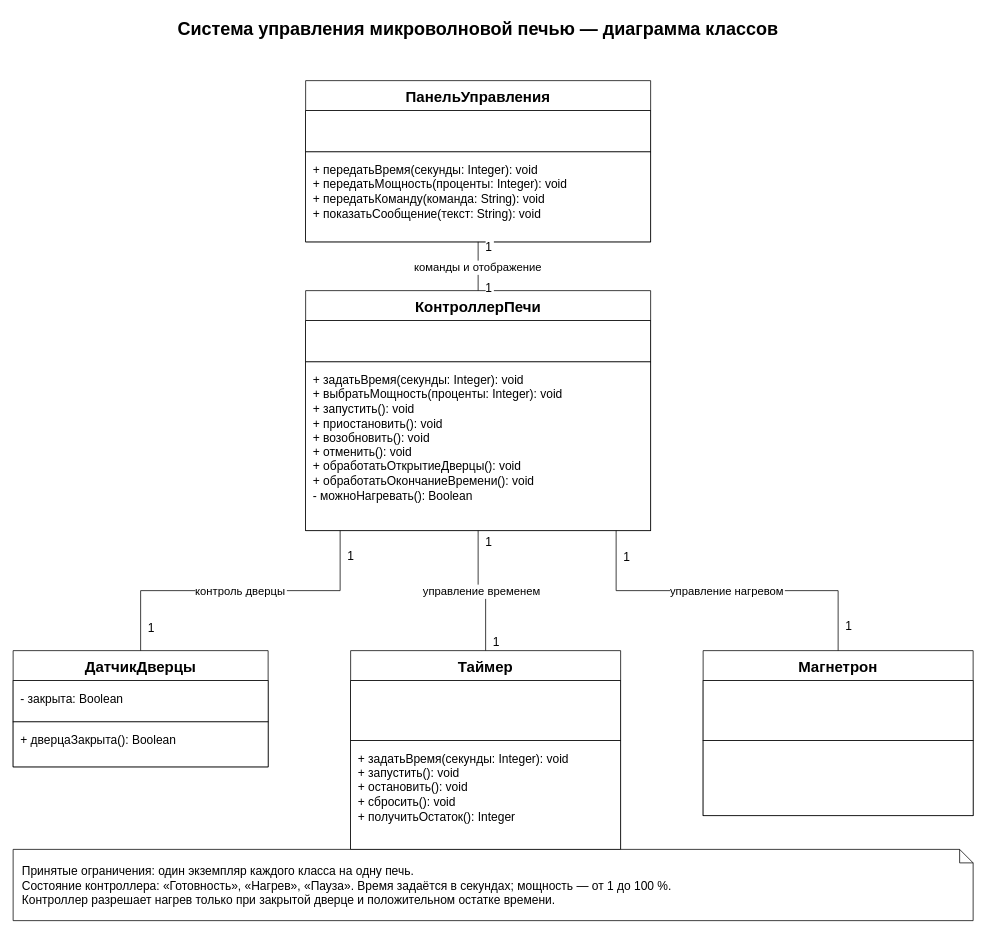
Image size: 986x934. Some labels were removed from this diagram. Here are the shapes that lost their labels. From the top down, the centre of each, then its label:
At pixel 478 131: "- текстДисплея: String".
At pixel 478 341: "- состояние: String".
At pixel 485 710: "- остатокСекунд: Integer - активен: Boolean".
At pixel 837 710: "- мощностьПроцентов: Integer - включён: Boolean".
At pixel 837 778: "+ задатьМощность(проценты: Integer): void + включить(): void + выключить(): void".
